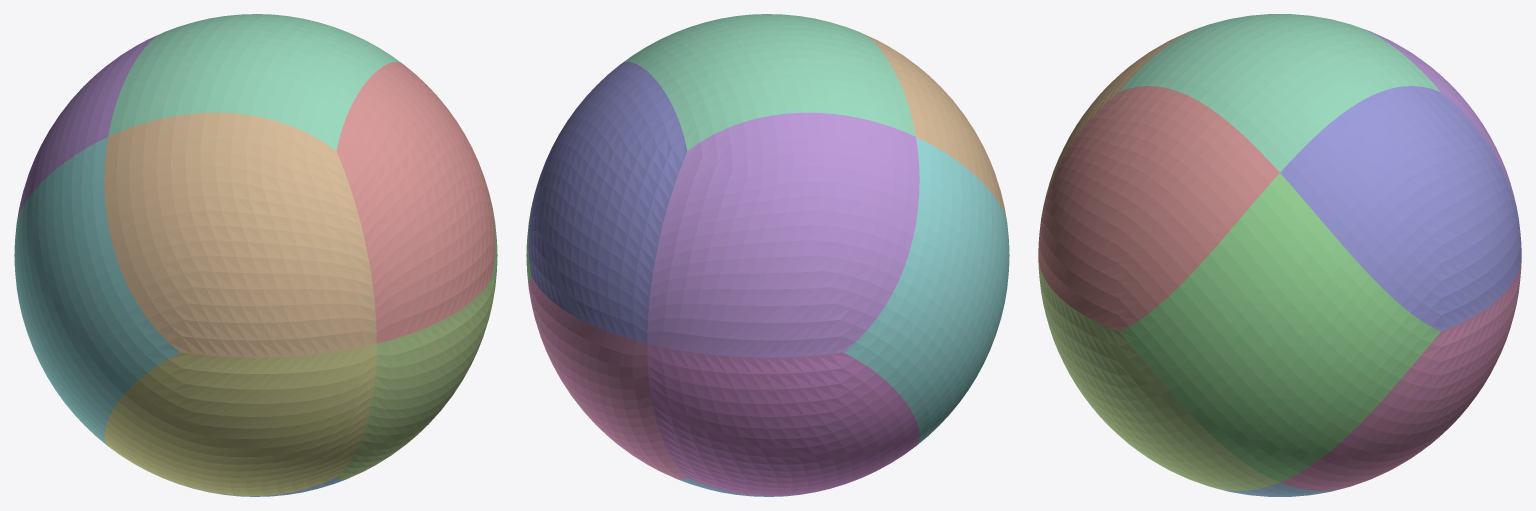
The model's file is HEALPix_grid.glb.
3 renders of one model, left to right at view 1: azimuth 30°, elevation 25°; view 2: azimuth 150°, elevation 25°; view 3: azimuth 270°, elevation 25°, orthographic.
Size of the model in its own units: 1 by 1 by 1.
